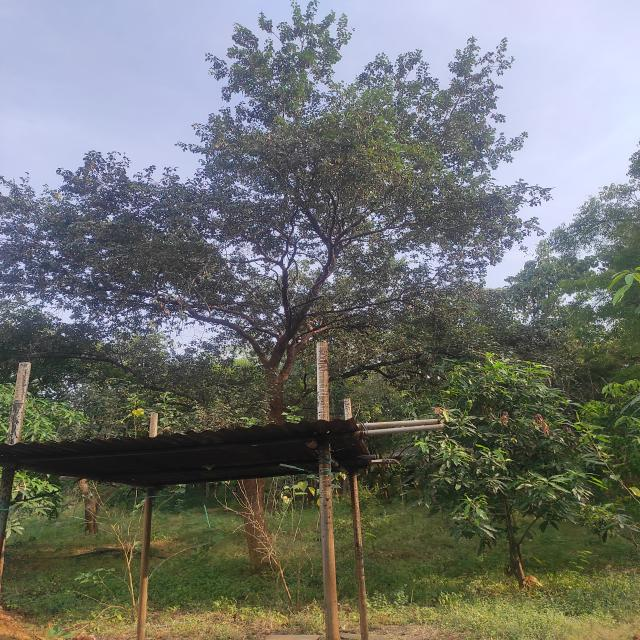Devakanchan tree: (59, 19, 505, 345)
Mango Tree: (428, 364, 585, 520)
